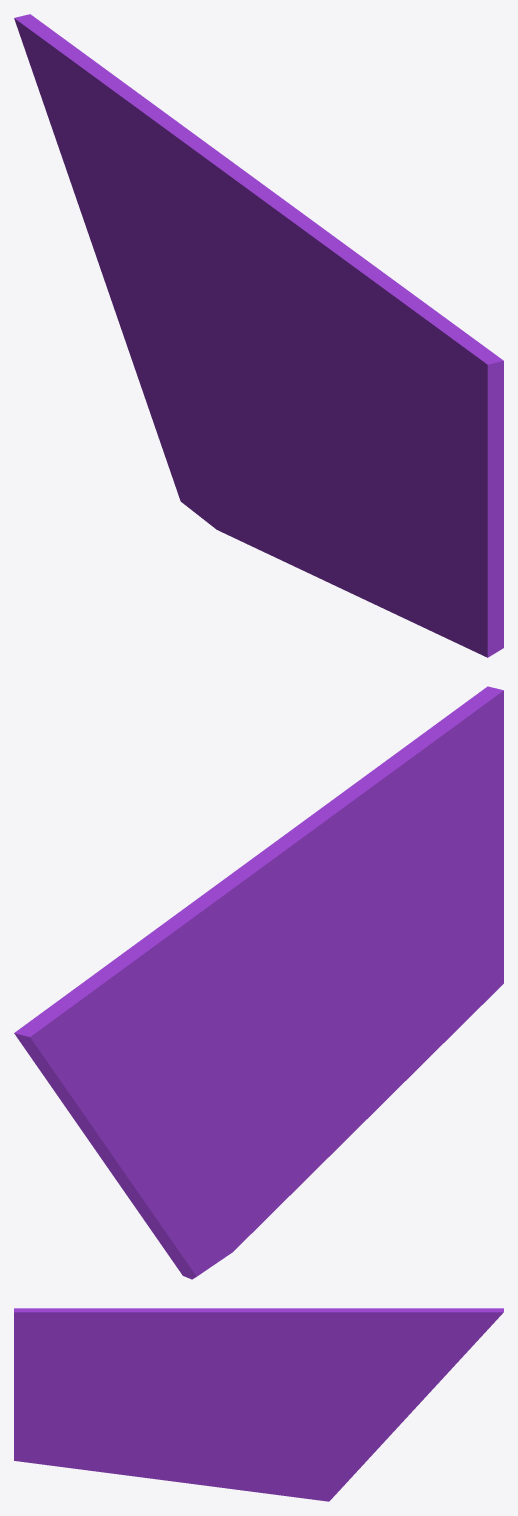
File: Glass_111_0_chunks.fbx
The picture shows the model from 3 angles, top to bottom: view 1: azimuth 30°, elevation 25°; view 2: azimuth 150°, elevation 25°; view 3: azimuth 270°, elevation 25°; orthographic projection. The views are drawn at different scales.
Visible parts, largest first — view 1: Glass_111_0_9, Glass_111_0_7, Glass_111_0_2, Glass_111_0_1, Glass_111_0_10, Glass_111_0_4, Glass_111_0_18, Glass_111_0_13, Glass_111_0_3, Glass_111_0_6, Glass_111_0_20, Glass_111_0_11 (+7 smaller); view 2: Glass_111_0_9, Glass_111_0_7, Glass_111_0_2, Glass_111_0_1, Glass_111_0_10, Glass_111_0_4, Glass_111_0_18, Glass_111_0_13, Glass_111_0_3, Glass_111_0_6, Glass_111_0_20, Glass_111_0_11 (+7 smaller); view 3: Glass_111_0_9, Glass_111_0_2, Glass_111_0_7, Glass_111_0_1, Glass_111_0_0, Glass_111_0_14, Glass_111_0_16, Glass_111_0_4, Glass_111_0_5, Glass_111_0_6, Glass_111_0_17, Glass_111_0_20 (+6 smaller).
Part boxes in pixels (x1,y1,x2,y2): Glass_111_0_9: (370,274,503,651); Glass_111_0_7: (272,229,385,479); Glass_111_0_2: (200,178,323,408); Glass_111_0_1: (53,132,221,385); Glass_111_0_10: (14,18,154,182); Glass_111_0_4: (126,342,240,540); Glass_111_0_18: (305,455,407,563); Glass_111_0_13: (147,111,253,251); Glass_111_0_3: (227,408,314,541); Glass_111_0_6: (134,346,270,459); Glass_111_0_20: (406,528,503,657); Glass_111_0_11: (100,165,204,288); Glass_111_0_9: (370,686,503,977); Glass_111_0_7: (288,773,389,1073); Glass_111_0_2: (216,818,318,1100); Glass_111_0_1: (59,1035,237,1197); Glass_111_0_10: (29,938,164,1093); Glass_111_0_4: (129,1167,256,1279); Glass_111_0_18: (321,956,424,1082); Glass_111_0_13: (151,868,260,973); Glass_111_0_3: (243,1050,330,1190); Glass_111_0_6: (150,1051,287,1189); Glass_111_0_20: (422,958,503,1047); Glass_111_0_11: (116,995,220,1074); Glass_111_0_9: (14,1308,135,1458); Glass_111_0_2: (200,1308,311,1426); Glass_111_0_7: (134,1308,228,1428); Glass_111_0_1: (288,1363,456,1440); Glass_111_0_0: (91,1409,240,1484); Glass_111_0_14: (275,1312,396,1381); Glass_111_0_16: (388,1308,503,1370); Glass_111_0_4: (276,1439,384,1501); Glass_111_0_5: (198,1437,283,1494); Glass_111_0_6: (237,1420,375,1462); Glass_111_0_17: (282,1310,422,1340); Glass_111_0_20: (14,1425,95,1468).
Size of the model in its own units: 27.2 by 590 by 1374.
